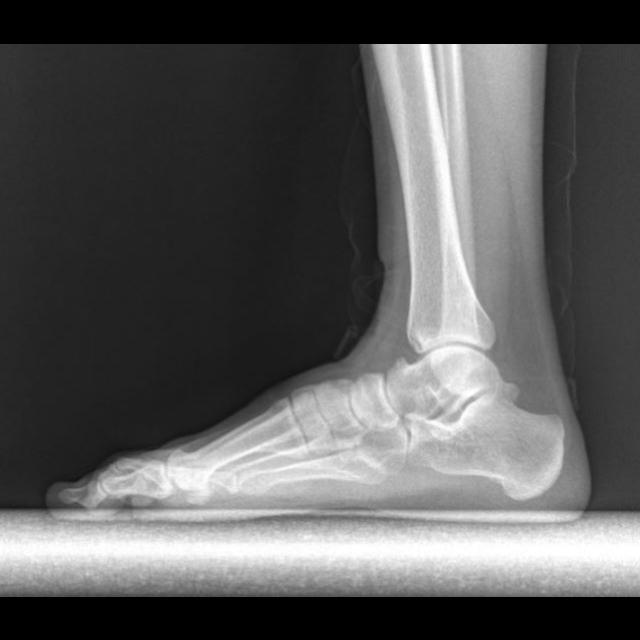a: (409, 390, 564, 499)
b: (350, 372, 400, 431)
c: (166, 396, 308, 509)
